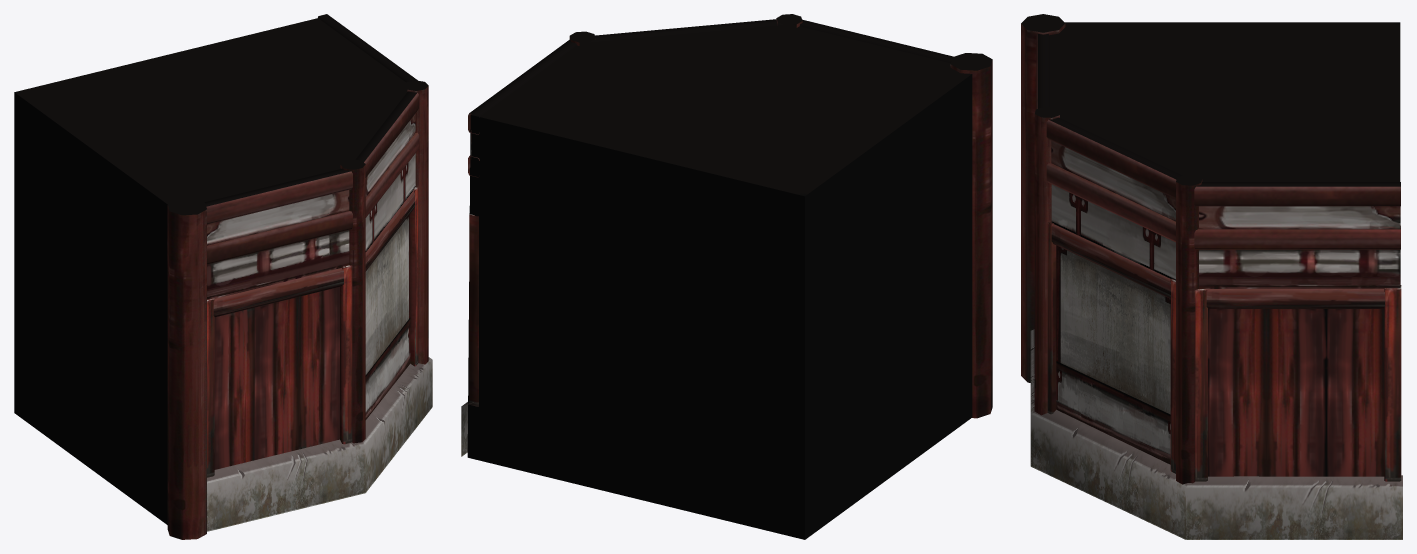
Rendered from STR_WallSimpleCornerRnd.FBX.
3 views of the same model, side by side, from view 1: azimuth 30°, elevation 25°; view 2: azimuth 150°, elevation 25°; view 3: azimuth 270°, elevation 25° (orthographic). The views are drawn at different scales.
Parts seen in each view (by area): view 1: STR_WallSimpleCornerRnd; view 2: STR_WallSimpleCornerRnd; view 3: STR_WallSimpleCornerRnd.
Part boxes in pixels (bbox=[...]): STR_WallSimpleCornerRnd: bbox=[14, 14, 432, 539]; STR_WallSimpleCornerRnd: bbox=[461, 14, 992, 539]; STR_WallSimpleCornerRnd: bbox=[1021, 14, 1402, 539].
Size of the model in its own units: 329 by 311 by 305.
Materials: 1 (1 with a texture image).
